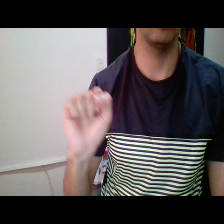9D: (54, 84, 122, 160)
